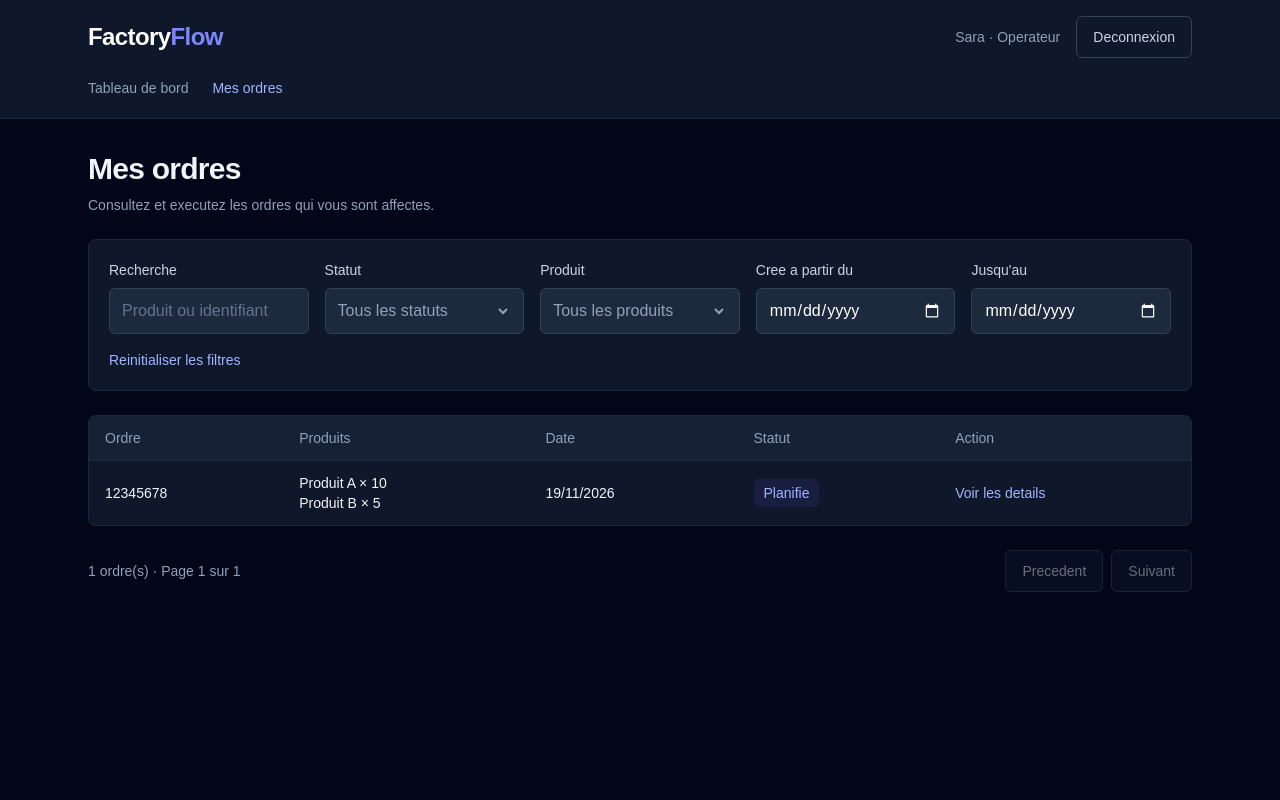
logout revokes the session and removes the local token
Click the button "Deconnexion" at (1134, 37), box [1076,16,1192,58]
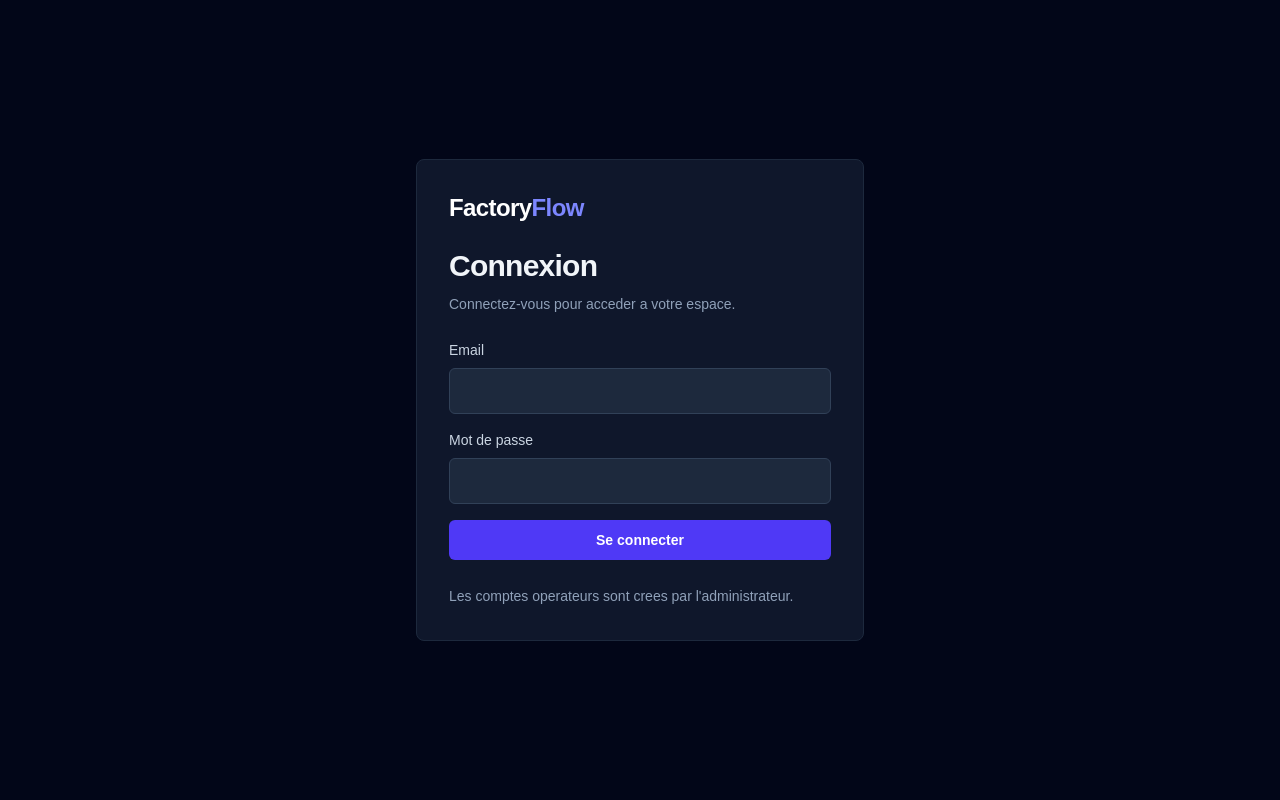
Now the heading "Connexion" is shown, box [449,249,597,282]
